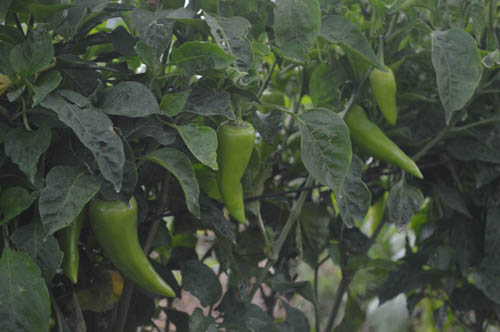ChiliPepper: (90, 196, 175, 295), (345, 109, 424, 178), (218, 125, 253, 222), (371, 66, 404, 120), (57, 216, 82, 286)
